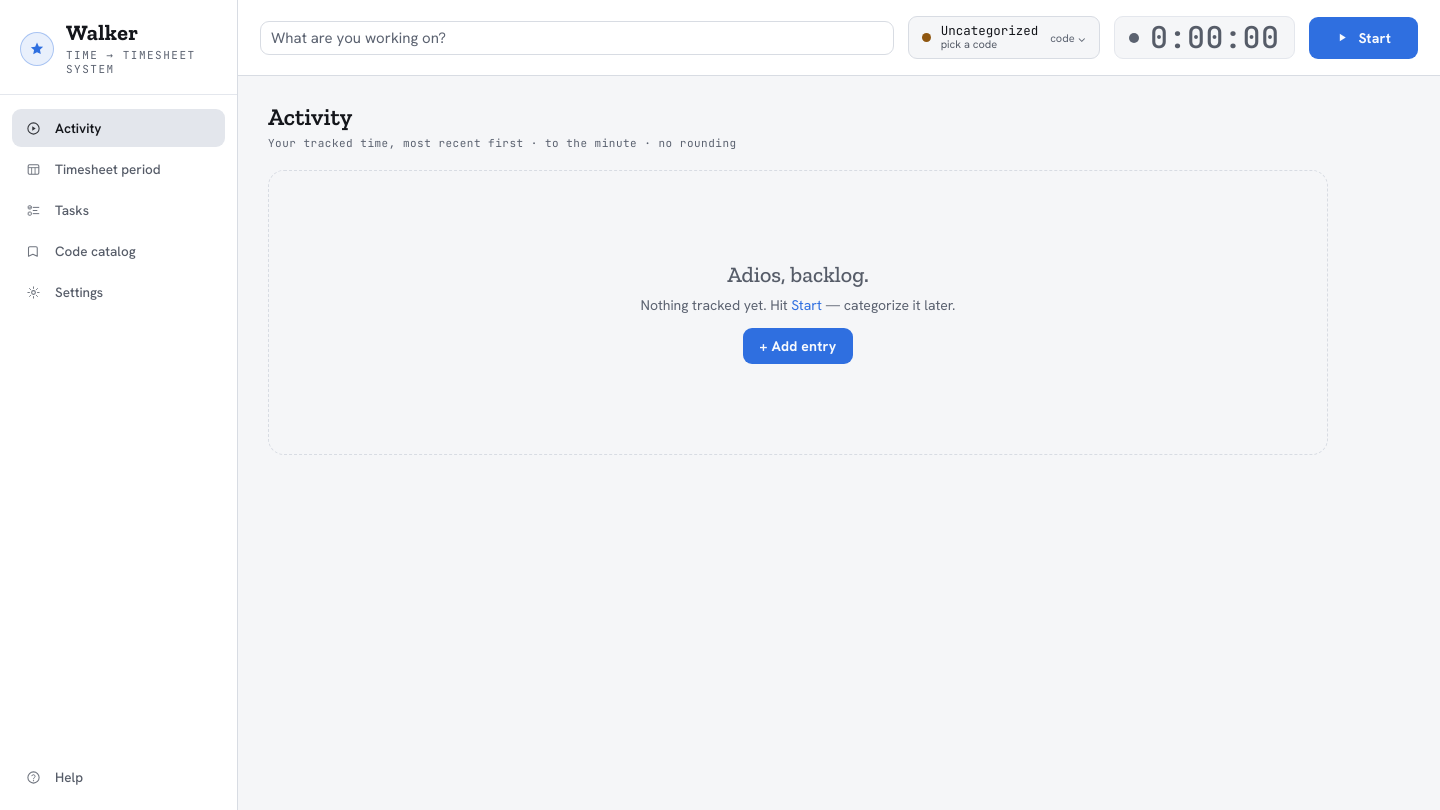
App — entry mutation safety (BIZ-011) › "+ Add entry" persists nothing until Save
The image size is (1440, 810).
Check: the text "Adios, backlog." is shown, box [727,261,869,288]
Click the button "+ Add entry" at (798, 346), box [743,328,853,364]
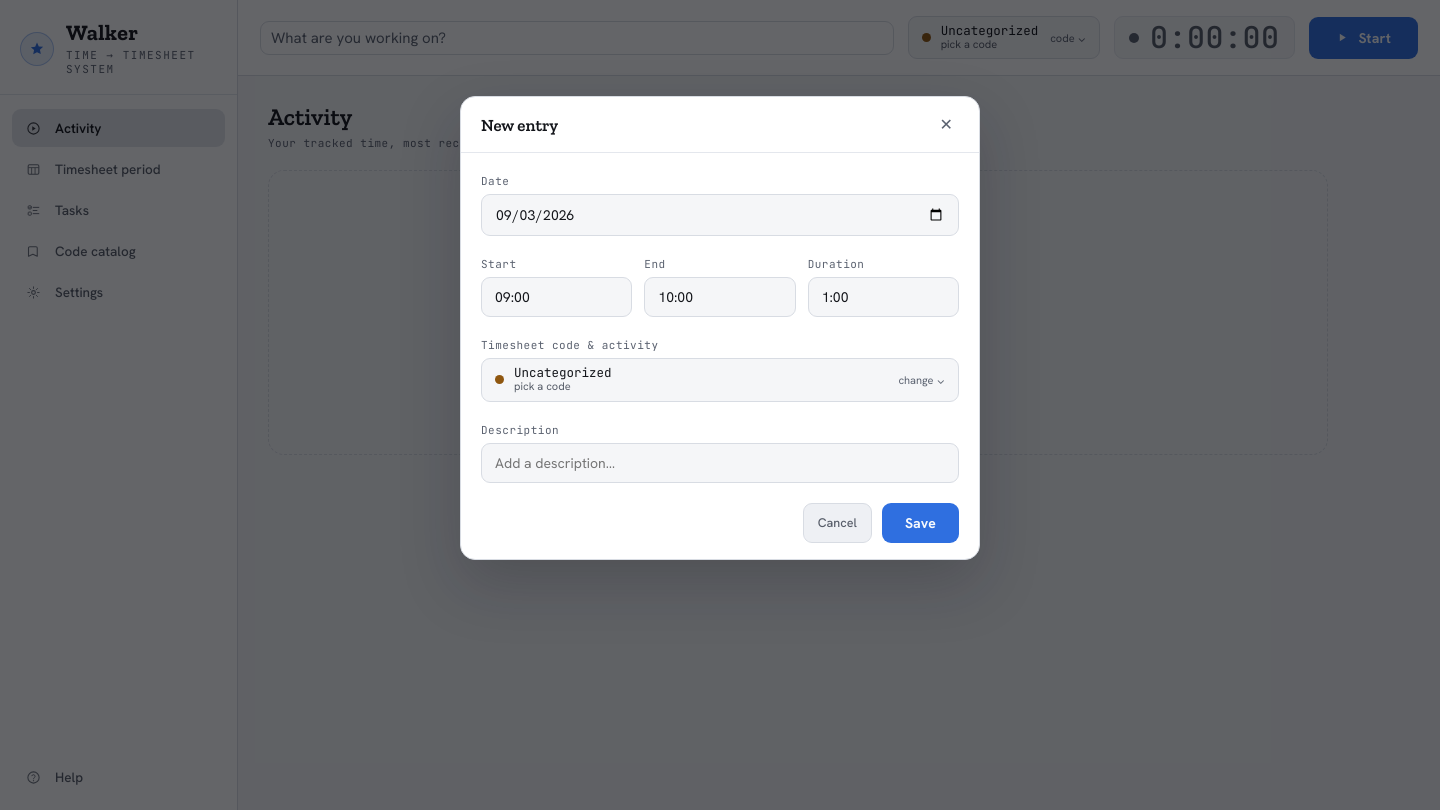
Check: the text "New entry" is shown, box [481,114,558,134]
